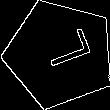L_W: (30, 31, 90, 78)
